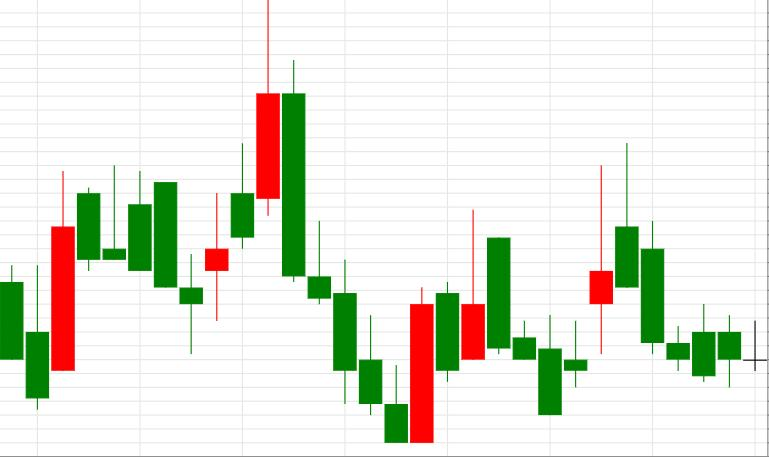bullish_engulfing_rise: (282, 59, 434, 444)
